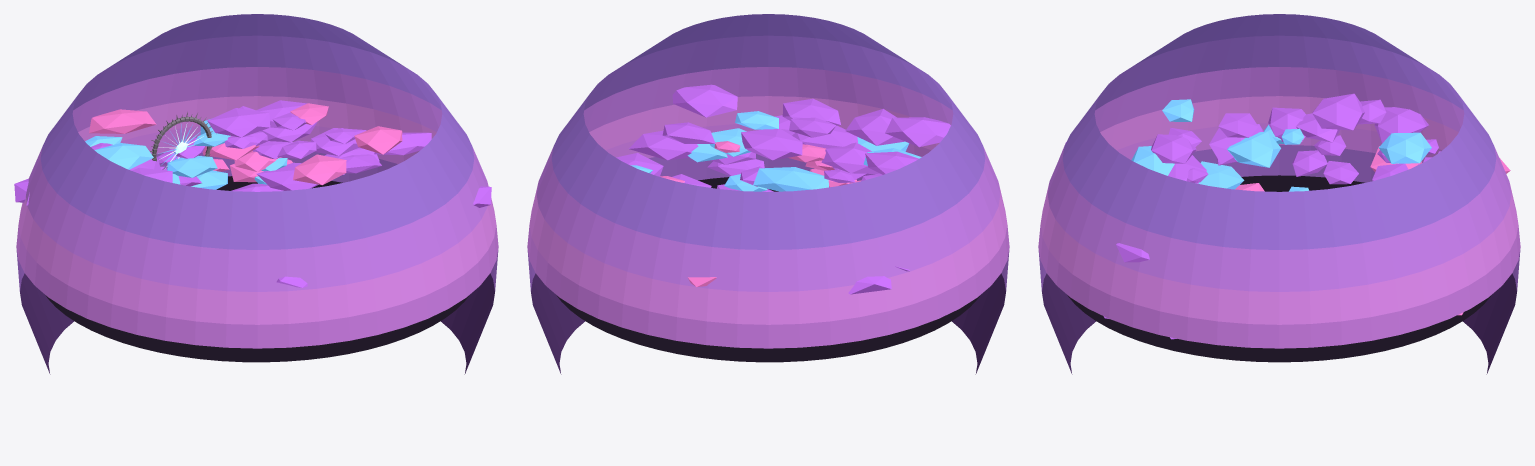
File: arena2.glb
The picture shows the model from 3 angles, left to right: view 1: azimuth 30°, elevation 25°; view 2: azimuth 150°, elevation 25°; view 3: azimuth 270°, elevation 25°; orthographic projection.
Parts seen in each view (by area): view 1: sky, void; view 2: sky, void; view 3: sky, void.
Part boxes in pixels (bbox=[...]): sky: bbox=[14, 14, 498, 374]; void: bbox=[45, 176, 469, 362]; sky: bbox=[527, 14, 1009, 374]; void: bbox=[556, 177, 980, 362]; sky: bbox=[1038, 14, 1520, 374]; void: bbox=[1067, 175, 1491, 362].
Bounding box in the file's own units: 480 × 360 × 480.
